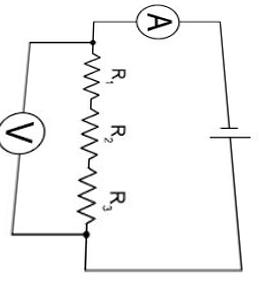Battery: (196, 111, 249, 146)
